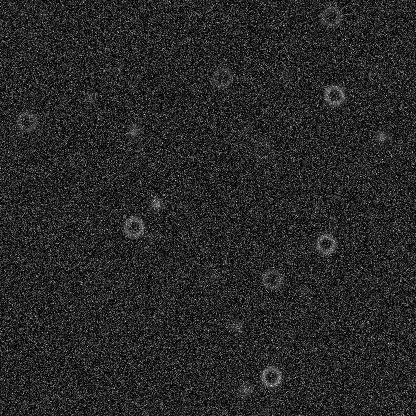Ring: (259, 266, 283, 290), (250, 138, 274, 162), (15, 109, 39, 133), (318, 4, 342, 28), (121, 214, 145, 238), (313, 232, 337, 256), (210, 65, 234, 89), (259, 364, 283, 388), (322, 83, 346, 107)
Spot: (238, 121, 254, 137), (294, 280, 310, 296), (141, 228, 157, 244), (227, 318, 243, 334), (148, 195, 164, 211), (81, 89, 97, 105), (237, 381, 253, 397), (125, 123, 141, 139), (373, 128, 389, 144), (275, 66, 291, 82), (204, 267, 220, 283)
